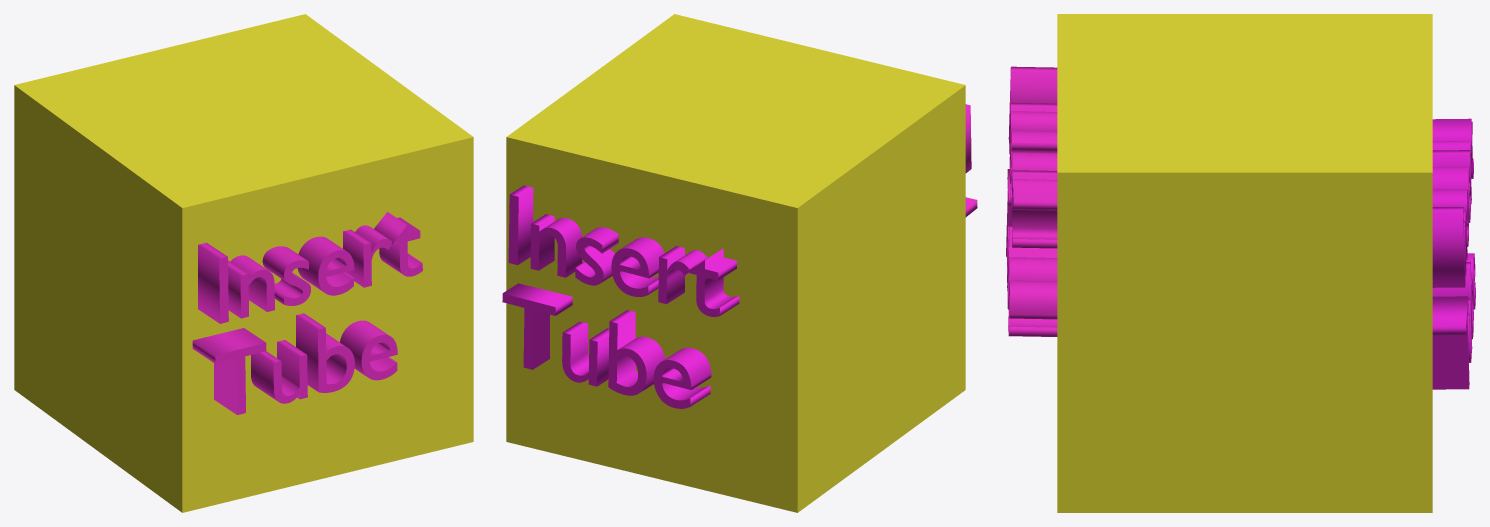
Rendered from Inserttube (1).glb.
3 views of the same model, side by side, from view 1: azimuth 30°, elevation 25°; view 2: azimuth 150°, elevation 25°; view 3: azimuth 270°, elevation 25° (orthographic). The views are drawn at different scales.
Visible parts, largest first — view 1: Cube, Text.001; view 2: Cube, Text.002, Text.001; view 3: Cube, Text.001, Text.002.
Part boxes in pixels (box(x1,y1,x2,y2)): Cube: box(14, 14, 473, 512); Text.001: box(192, 212, 422, 414); Cube: box(506, 14, 965, 512); Text.002: box(502, 185, 739, 408); Text.001: box(965, 104, 977, 217); Cube: box(1057, 14, 1432, 512); Text.001: box(1006, 66, 1057, 336); Text.002: box(1432, 118, 1475, 389).
Size of the model in its own units: 2 by 2 by 2.5.
